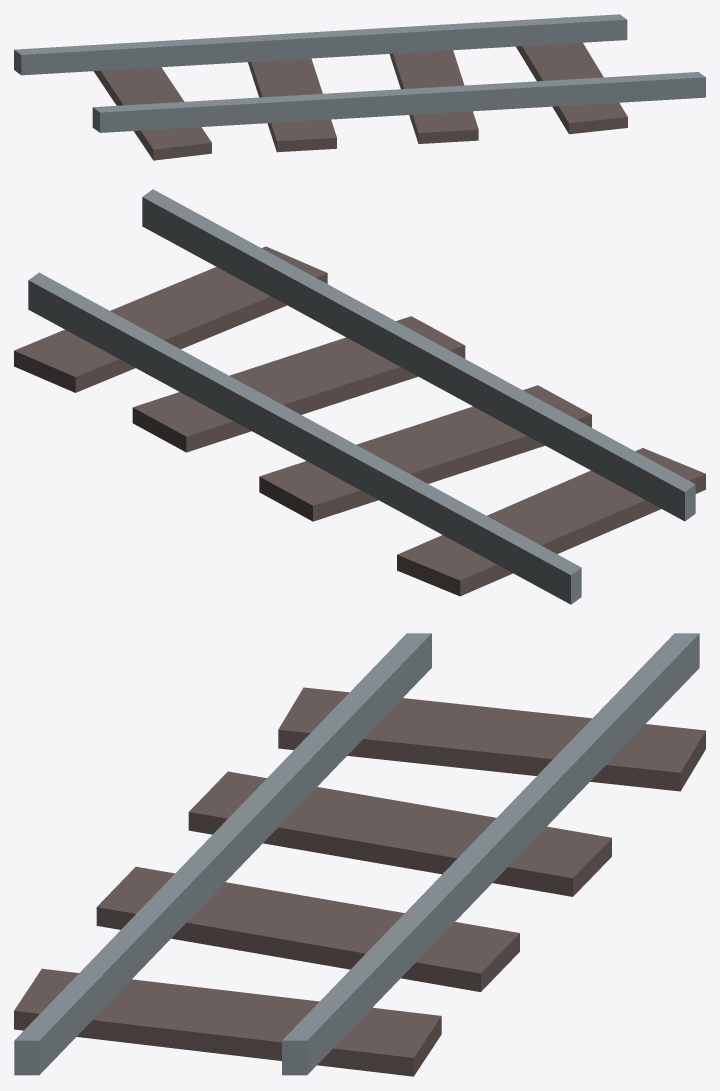
File: Rail-C02.fbx
3 renders of one model, top to bottom at view 1: azimuth 30°, elevation 25°; view 2: azimuth 150°, elevation 25°; view 3: azimuth 270°, elevation 25°, orthographic. The views are drawn at different scales.
Parts seen in each view (by area): view 1: Rail-C02; view 2: Rail-C02; view 3: Rail-C02.
Boxes of the visible parts, x1,y1,x2,y2 form: Rail-C02: (14,14,705,160); Rail-C02: (14,189,705,604); Rail-C02: (14,633,705,1076).
Bounding box in the file's own units: 457 × 28.05 × 328.
